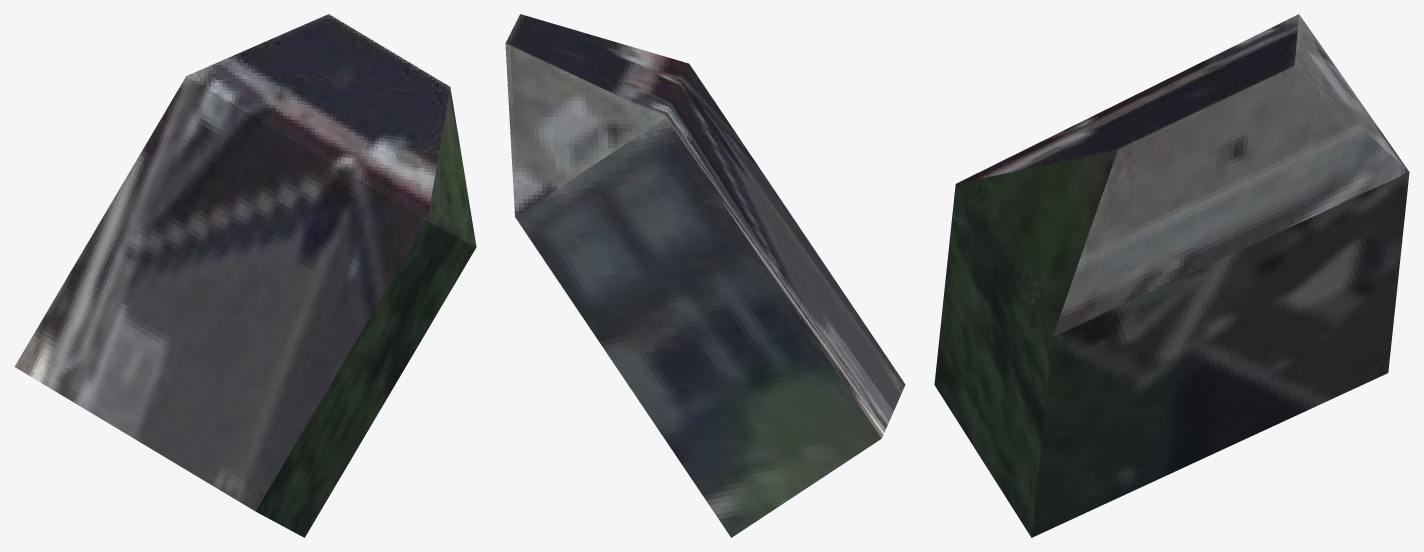
3 renders of one model, left to right at view 1: azimuth 30°, elevation 25°; view 2: azimuth 150°, elevation 25°; view 3: azimuth 270°, elevation 25°, orthographic. The views are drawn at different scales.
Visible parts, largest first — view 1: BAG_0599100000701563; view 2: BAG_0599100000701563; view 3: BAG_0599100000701563.
Part boxes in pixels (left/top/right/bottom): BAG_0599100000701563: left=14, top=14, right=476, bottom=537; BAG_0599100000701563: left=505, top=14, right=905, bottom=537; BAG_0599100000701563: left=934, top=14, right=1409, bottom=537.
Bounding box in the file's own units: 11.01 × 11.75 × 9.17.
2 materials, 1 textured.
